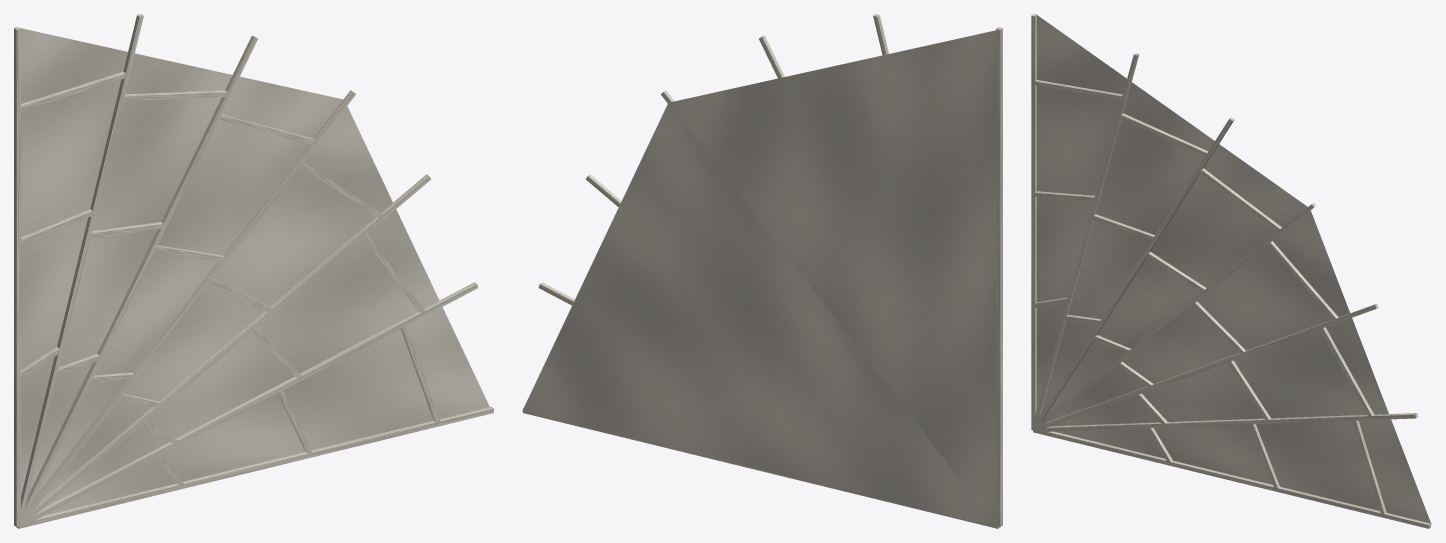
Rendered from vampire-crypt-and-gothic-cathedral-crypt-cobweb-49aa42e6__22995.glb.
3 views of the same model, side by side, from view 1: azimuth 30°, elevation 25°; view 2: azimuth 150°, elevation 25°; view 3: azimuth 330°, elevation 25° (orthographic). The views are drawn at different scales.
Parts seen in each view (by area): view 1: crypt-cobweb; view 2: crypt-cobweb; view 3: crypt-cobweb.
Part boxes in pixels (x1,y1,x2,y2): crypt-cobweb: (14, 14, 493, 528); crypt-cobweb: (522, 14, 1002, 528); crypt-cobweb: (1031, 14, 1431, 528).
Size of the model in its own units: 1.31 by 1.31 by 0.0159.
Materials: 1 (1 with a texture image).
